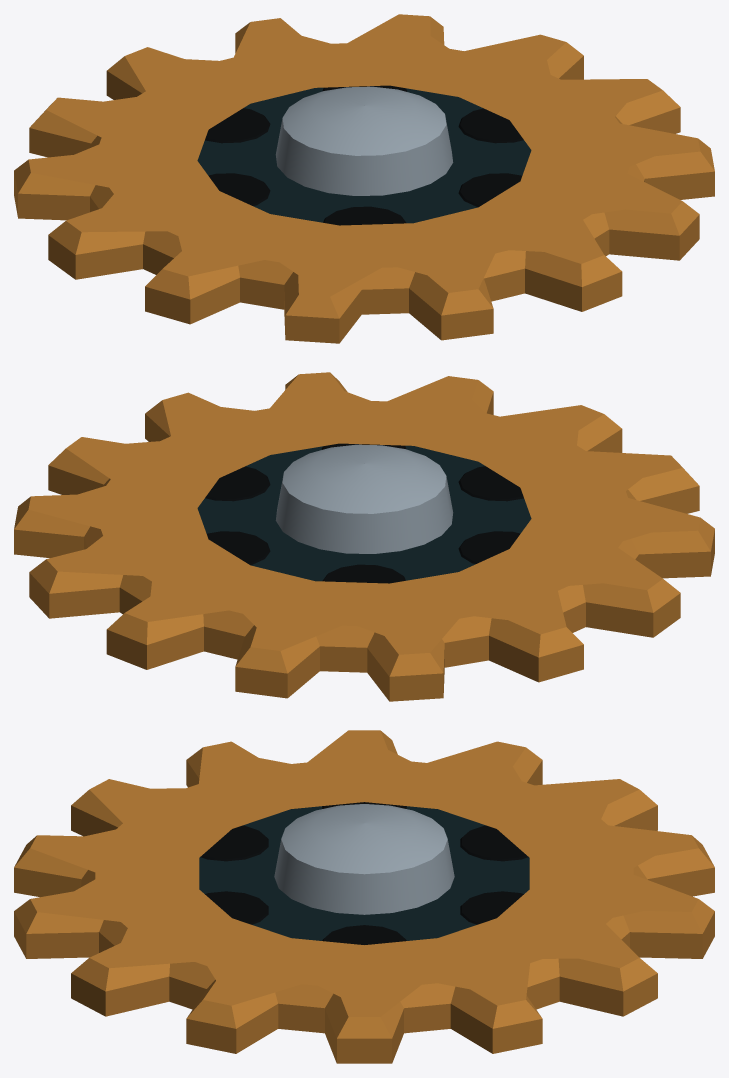
Rendered from gear.dae.
3 renders of one model, top to bottom at view 1: azimuth 30°, elevation 25°; view 2: azimuth 150°, elevation 25°; view 3: azimuth 270°, elevation 25°, orthographic.
Visible parts, largest first — view 1: accent, metal, wall_art, dark; view 2: accent, metal, wall_art, dark; view 3: accent, metal, wall_art, dark.
Boxes of the visible parts, left/top/right/bottom form: accent: left=14, top=14, right=714, bottom=343; metal: left=275, top=86, right=453, bottom=195; wall_art: left=197, top=87, right=531, bottom=223; dark: left=205, top=85, right=523, bottom=225; accent: left=14, top=372, right=714, bottom=701; metal: left=275, top=444, right=453, bottom=553; wall_art: left=197, top=445, right=531, bottom=581; dark: left=205, top=443, right=523, bottom=583; accent: left=14, top=730, right=714, bottom=1063; metal: left=274, top=804, right=454, bottom=914; wall_art: left=199, top=806, right=529, bottom=940; dark: left=200, top=802, right=528, bottom=944.
Size of the model in its own units: 2.04 by 0.29 by 2.02.
